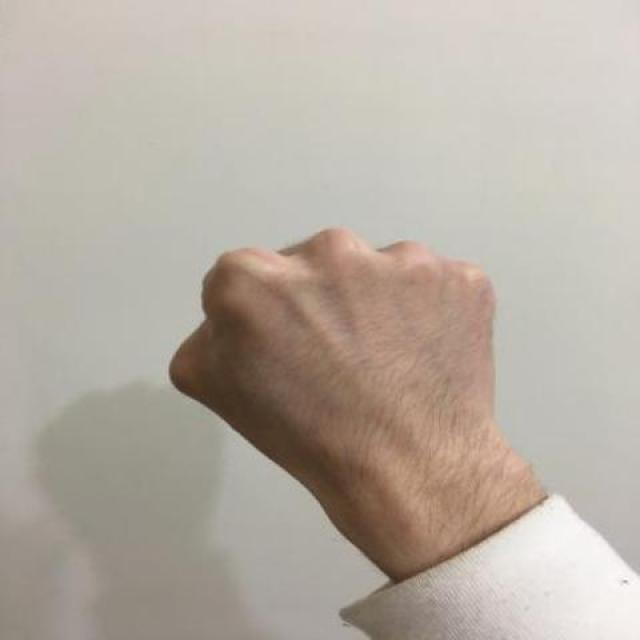Closed Hand: (167, 208, 502, 508)
